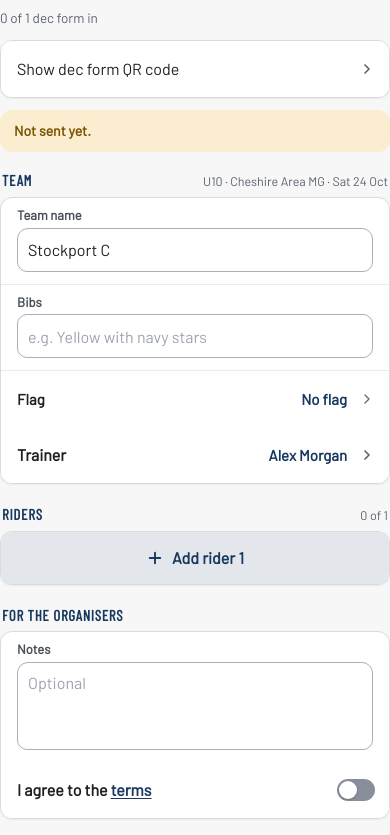
Scenario: DeclarationsTab with a set-up dec form › falls back to the standard form when the setup can’t be fetched
The width and height of the screenshot is (390, 835).
Expected: the field labelled "Team name" is shown, [17,228,373,272]
Click the button "Add rider 1" at (195, 558), box [1,532,389,584]
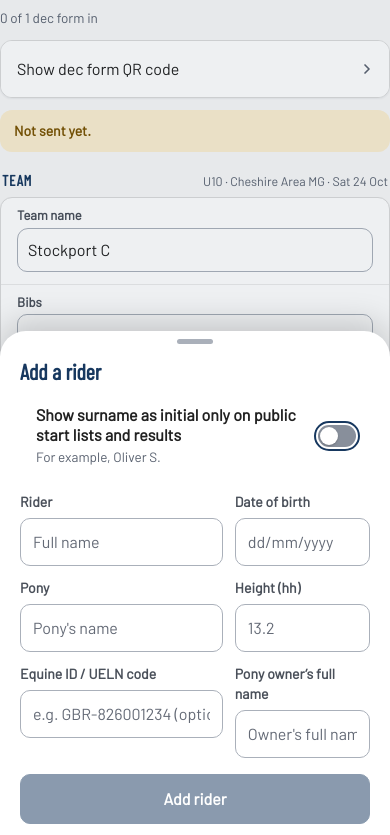
Now the field labelled "Date of birth" is shown, box [248,520,357,564]
Now the field labelled "Height (hh)" is shown, box [248,606,357,650]
